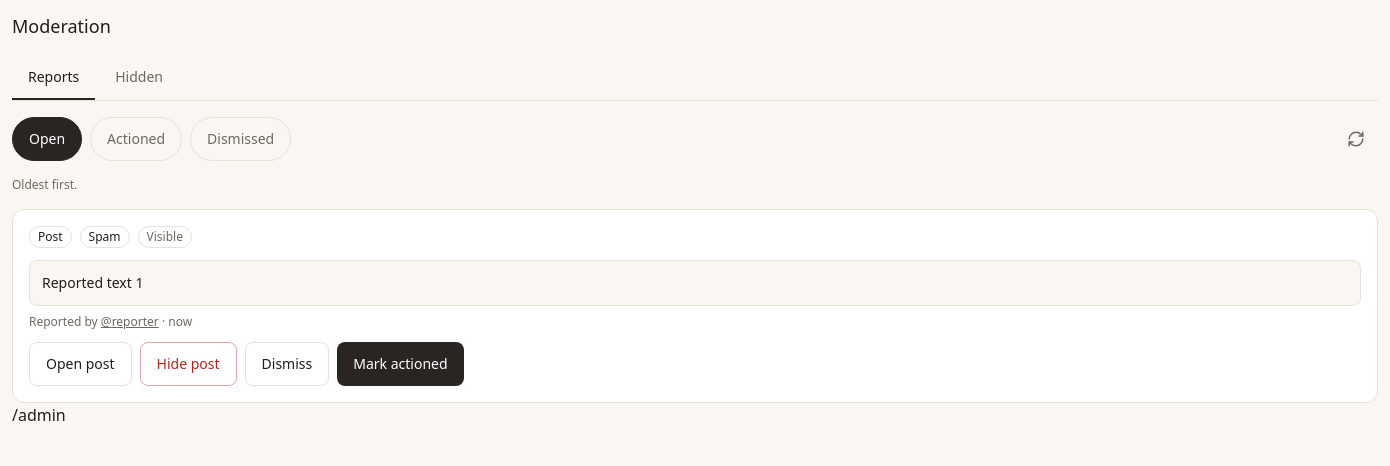
Test: acting on content › explains a failed hide
Click the button "Hide post": (188, 364) [140,342,237,386]
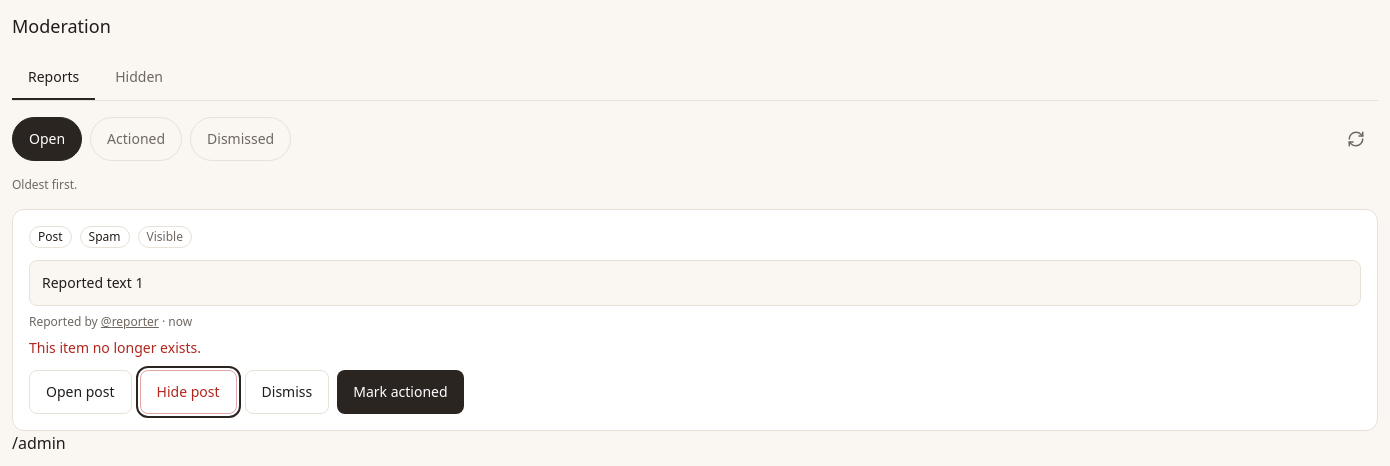
Expected: the message reads "This item no longer exists.", [29,338,201,357]
